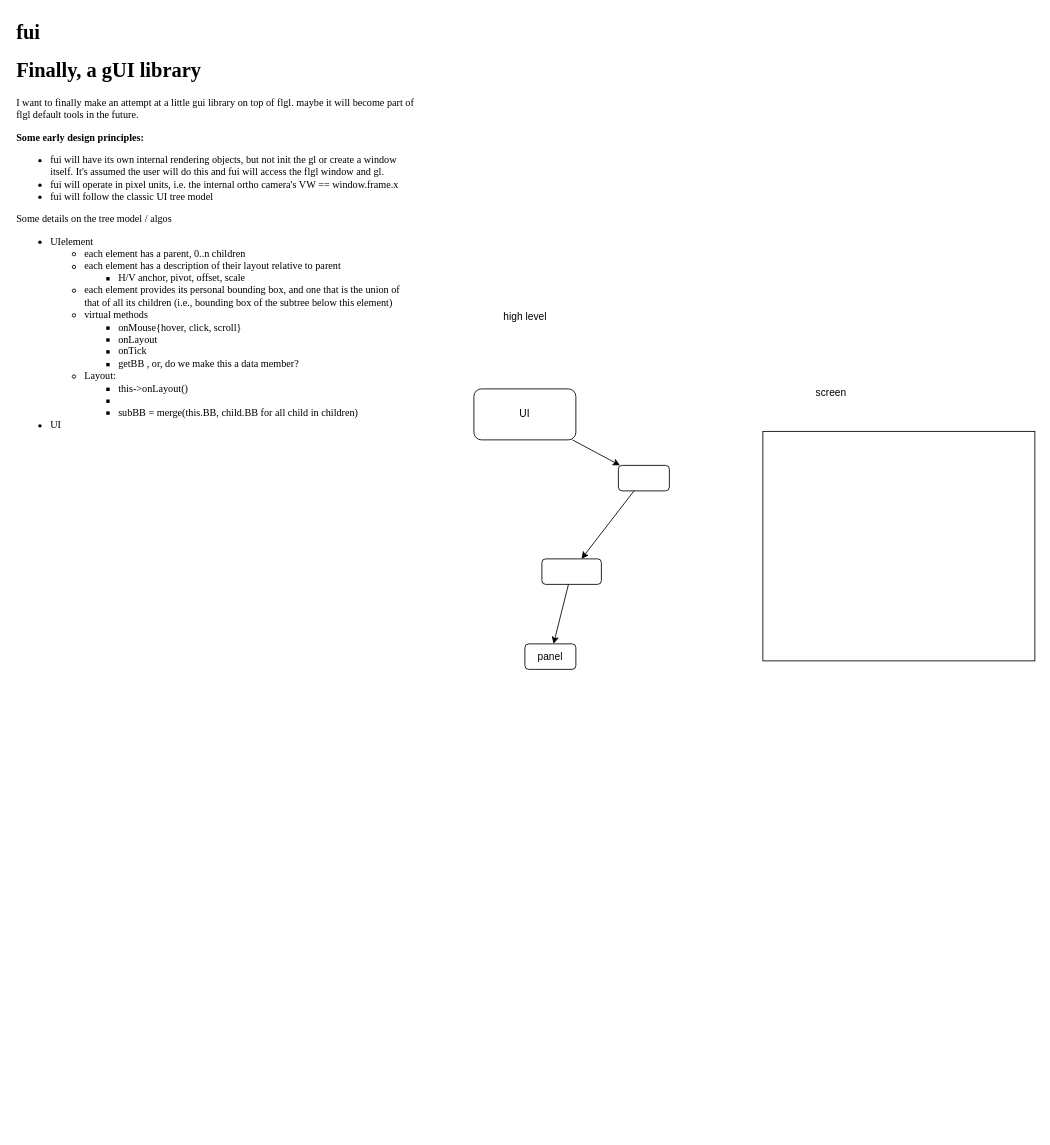
Some shapes in this 1050 by 1145 pixel diagram are drawn without their labels. The shapes that lost their labels are listed below. From the top down, each one's centre as x and y in pixels, then its label:
At pixel 643 478: "root".
At pixel 571 571: "dropdown".
